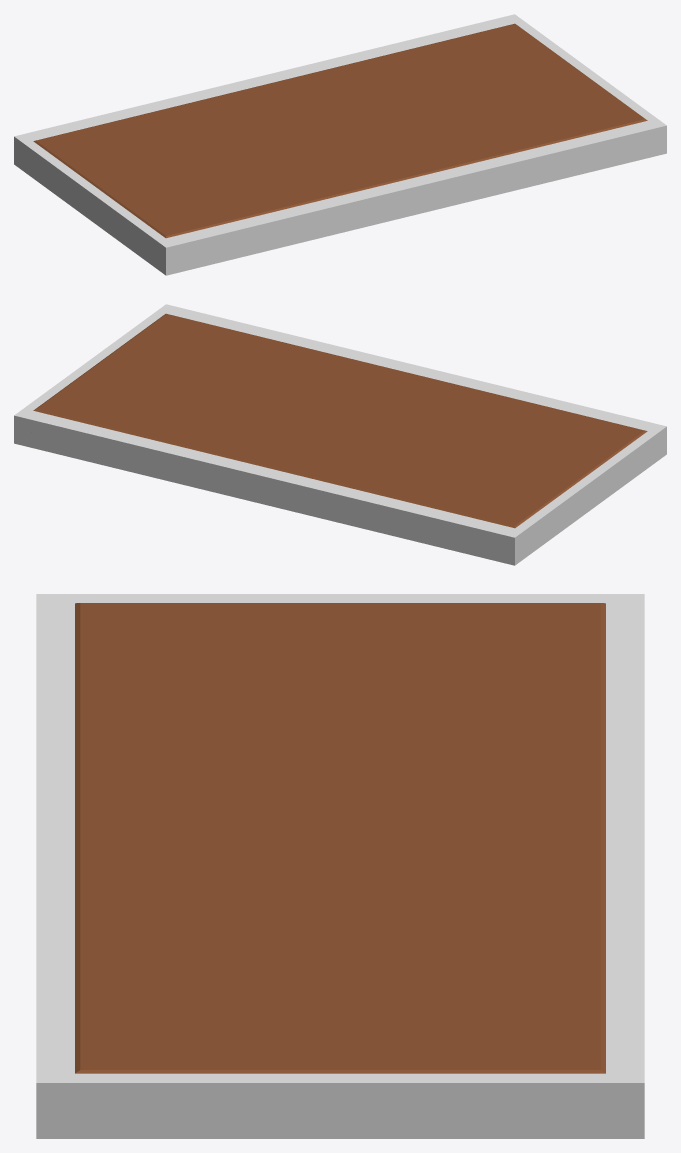
The model's file is carpet-C-01.glb.
3 renders of one model, top to bottom at view 1: azimuth 30°, elevation 25°; view 2: azimuth 150°, elevation 25°; view 3: azimuth 270°, elevation 25°, orthographic. The views are drawn at different scales.
Visible parts, largest first — view 1: Carpet C, Carpet C_col; view 2: Carpet C, Carpet C_col; view 3: Carpet C, Carpet C_col.
Boxes of the visible parts, x1,y1,x2,y2 form: Carpet C: [33, 23, 647, 238]; Carpet C_col: [14, 14, 666, 275]; Carpet C: [33, 313, 647, 528]; Carpet C_col: [14, 304, 666, 565]; Carpet C: [75, 603, 605, 1073]; Carpet C_col: [36, 594, 644, 1138].
Bounding box in the file's own units: 4.88 × 0.2703 × 2.57.
